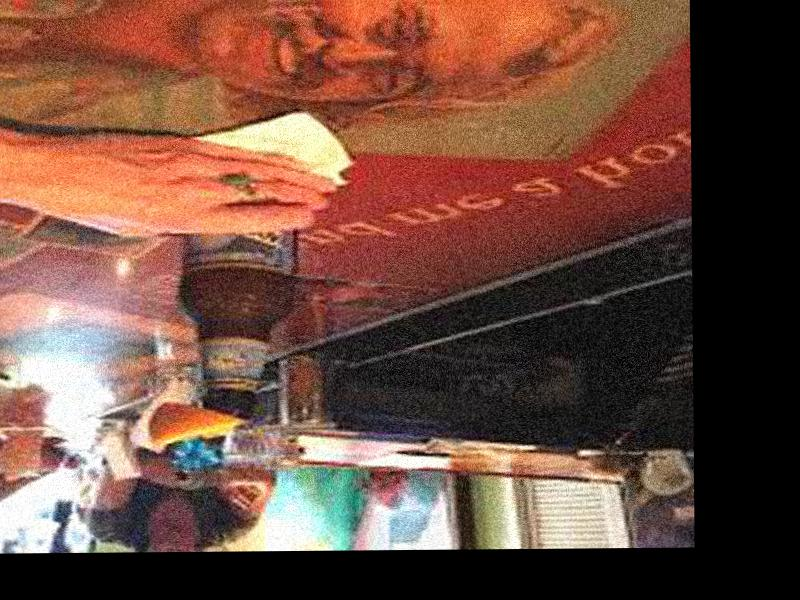Beer: (185, 152, 303, 425)
